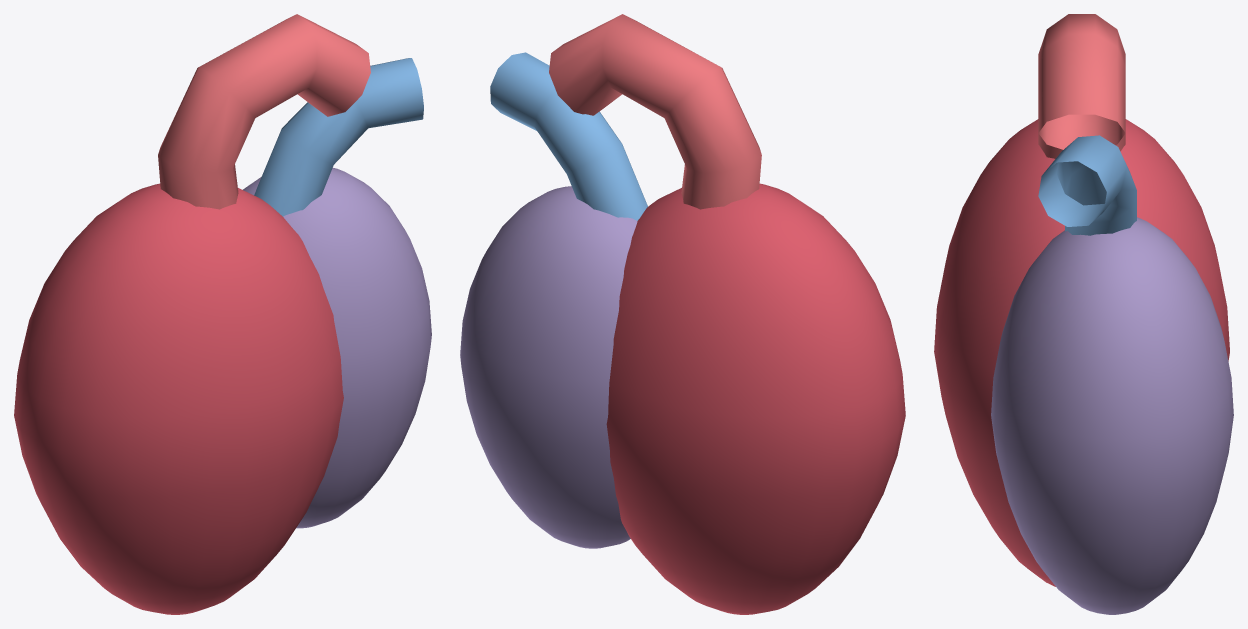
Rendered from heart.glb.
3 views of the same model, side by side, from view 1: azimuth 30°, elevation 25°; view 2: azimuth 150°, elevation 25°; view 3: azimuth 270°, elevation 25° (orthographic). The views are drawn at different scales.
Visible parts, largest first — view 1: left_ventricle, right_ventricle, aorta, pulmonary_artery; view 2: left_ventricle, right_ventricle, aorta, pulmonary_artery; view 3: right_ventricle, left_ventricle, aorta, pulmonary_artery.
Part boxes in pixels (x1=…): left_ventricle: x1=14, y1=183, x2=343, y2=614; right_ventricle: x1=243, y1=168, x2=431, y2=528; aorta: x1=158, y1=14, x2=370, y2=209; pulmonary_artery: x1=254, y1=58, x2=423, y2=216; left_ventricle: x1=606, y1=183, x2=905, y2=614; right_ventricle: x1=460, y1=186, x2=637, y2=548; aorta: x1=549, y1=14, x2=761, y2=209; pulmonary_artery: x1=490, y1=52, x2=647, y2=220; right_ventricle: x1=991, y1=217, x2=1233, y2=614; left_ventricle: x1=934, y1=119, x2=1229, y2=586; aorta: x1=1038, y1=14, x2=1125, y2=158; pulmonary_artery: x1=1038, y1=135, x2=1136, y2=235.
Bounding box in the file's own units: 2.69 × 3.56 × 1.58.
